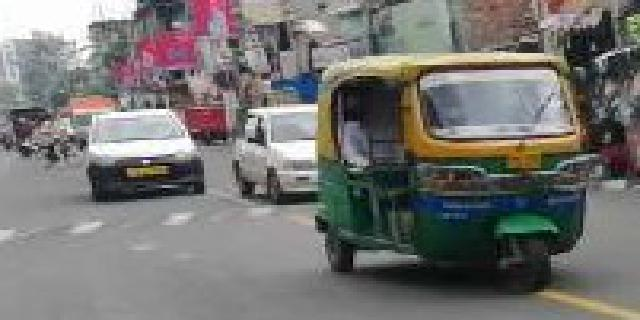Autorickshaw: (315, 47, 592, 290)
Car: (79, 100, 213, 197), (236, 107, 311, 209)
